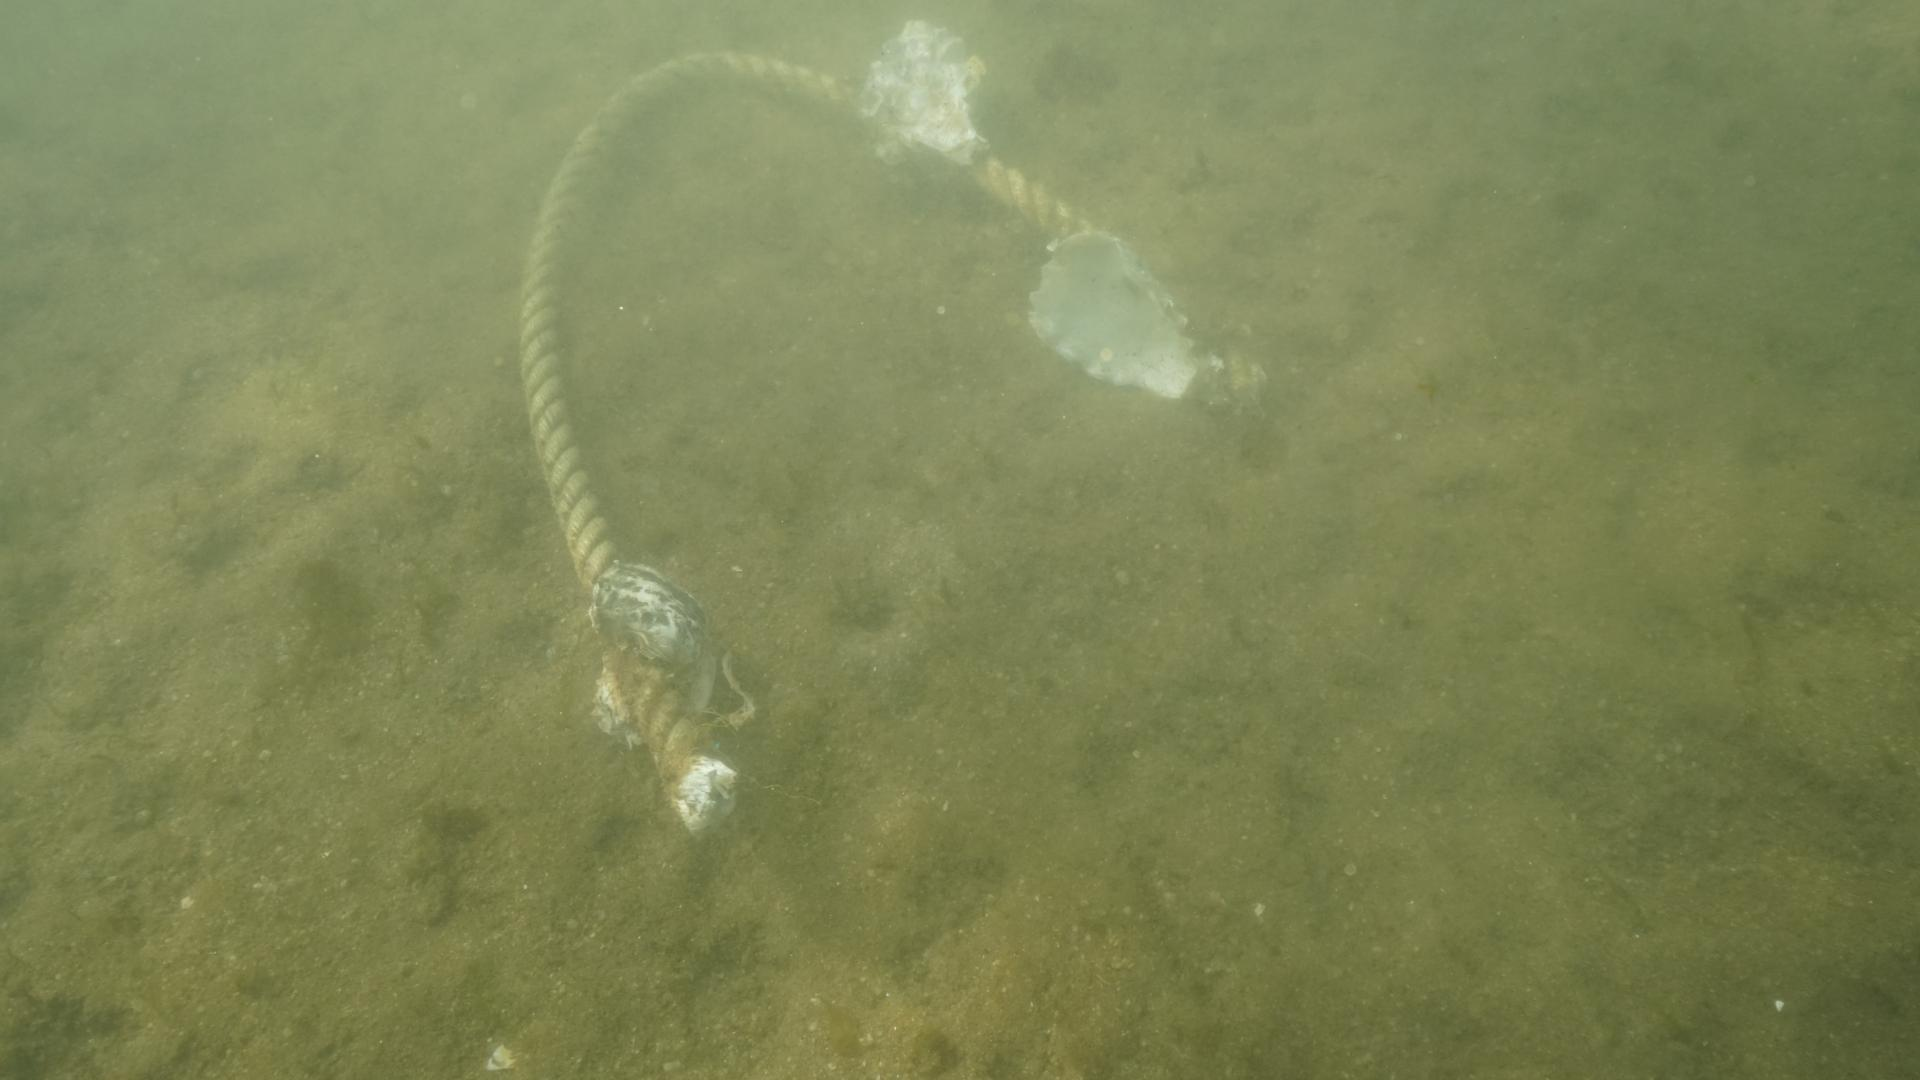rope: (510, 46, 1192, 769)
